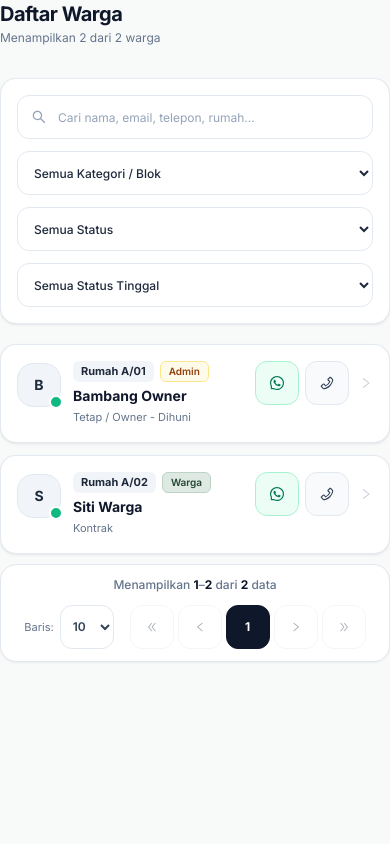
it: Residents Tenant Mode (RTRW-2.2) › d. warga biasa (canManageMembers false) -> tidak ada tombol Undang/Edit/Keluarkan
This screenshot has width=390, height=844.
Note: Buka detail warga
Click the heading "Siti Warga": click(108, 506) [73,498,142,515]
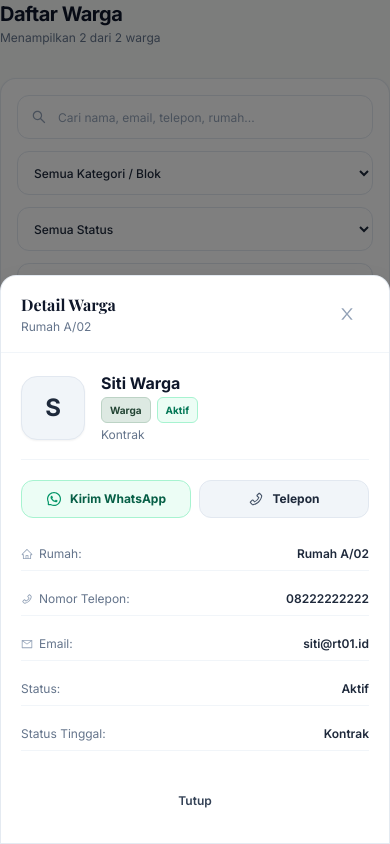
Now the heading "Detail Warga" is shown, box [21,293,116,317]
